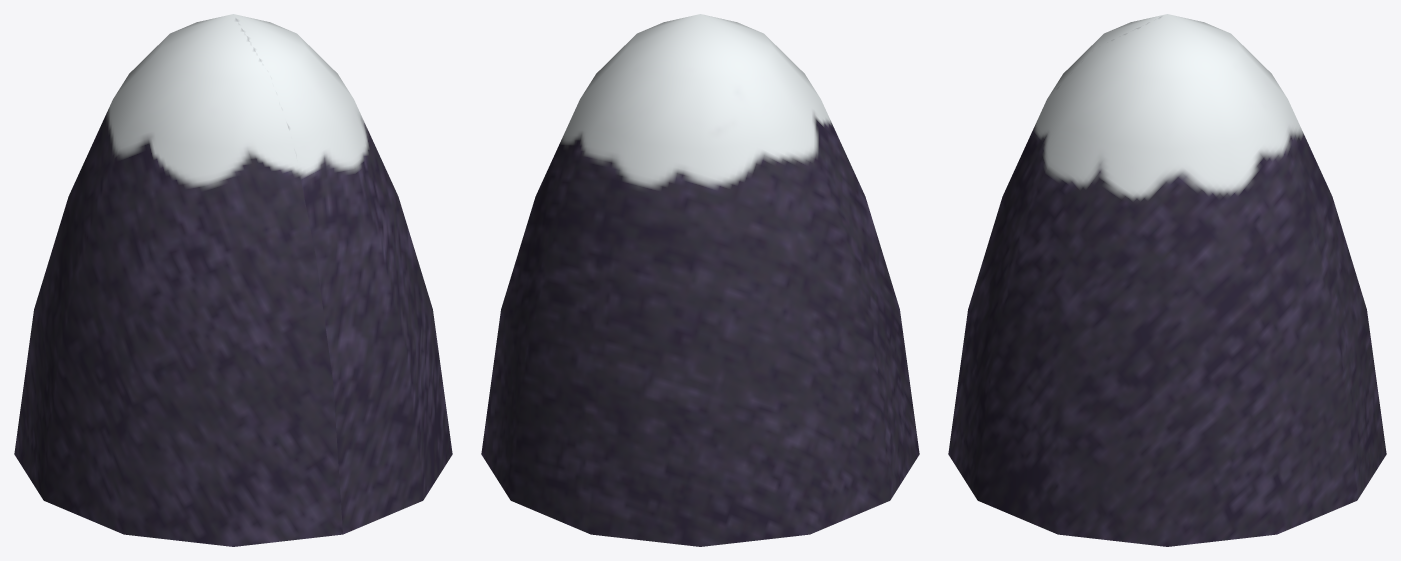
Rendered from Mountain_Small.fbx.
3 views of the same model, side by side, from view 1: azimuth 30°, elevation 25°; view 2: azimuth 150°, elevation 25°; view 3: azimuth 270°, elevation 25° (orthographic).
Visible parts, largest first — view 1: Mountain; view 2: Mountain; view 3: Mountain.
Part boxes in pixels (bbox=[...]): Mountain: bbox=[14, 14, 452, 546]; Mountain: bbox=[481, 14, 919, 546]; Mountain: bbox=[948, 14, 1386, 546].
Size of the model in its own units: 40.6 by 45 by 40.6.
Materials: 1 (1 with a texture image).
